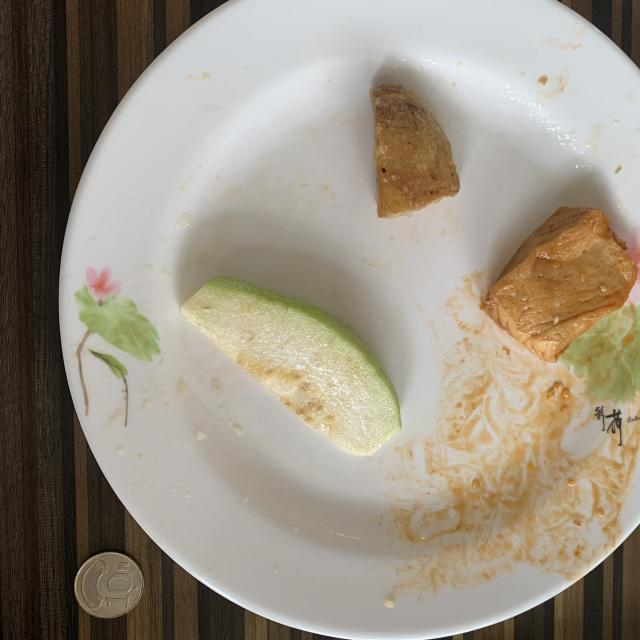coin: (75, 552, 144, 619)
creamy tofu: (485, 206, 638, 362)
fried potato: (370, 86, 460, 219)
guava -sliced-: (181, 276, 401, 455)
